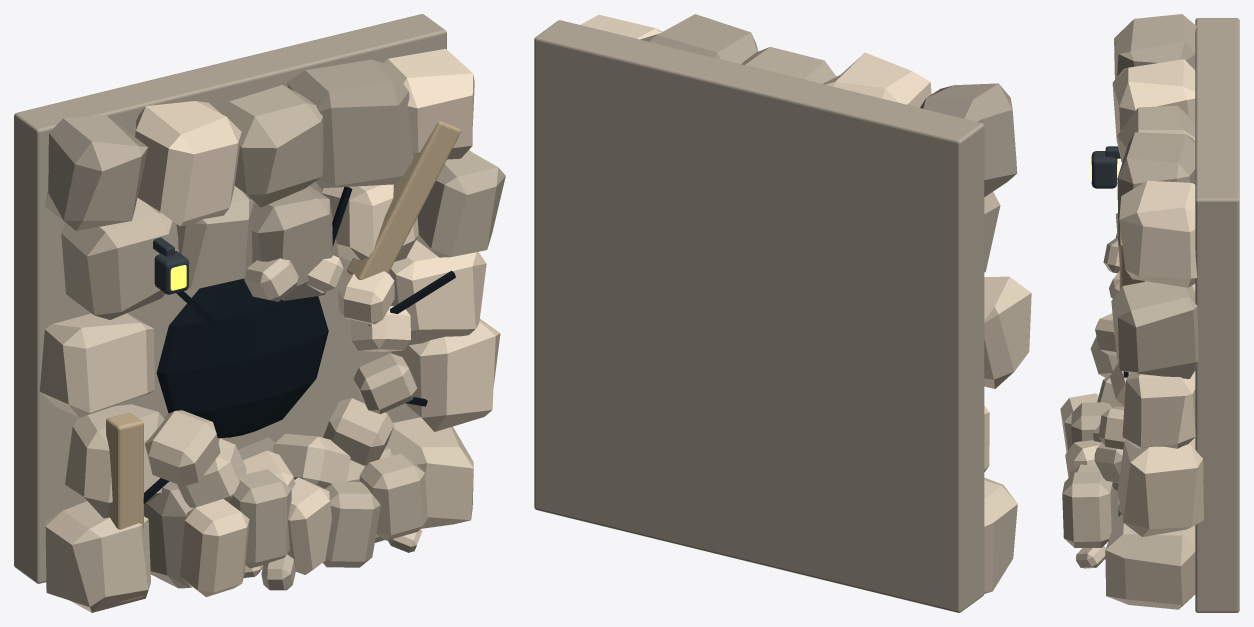
Rendered from MD_Mine_BrokenWall_L.fbx.
The picture shows the model from 3 angles, left to right: view 1: azimuth 30°, elevation 25°; view 2: azimuth 150°, elevation 25°; view 3: azimuth 270°, elevation 25°; orthographic projection. The views are drawn at different scales.
Visible parts, largest first — view 1: MD_Mine_BrokenWall_L; view 2: MD_Mine_BrokenWall_L; view 3: MD_Mine_BrokenWall_L.
Part boxes in pixels (x1,y1,x2,y2): MD_Mine_BrokenWall_L: (14,14,505,612); MD_Mine_BrokenWall_L: (534,14,1031,612); MD_Mine_BrokenWall_L: (1060,14,1239,612).
Bounding box in the file's own units: 372 × 381 × 141.
